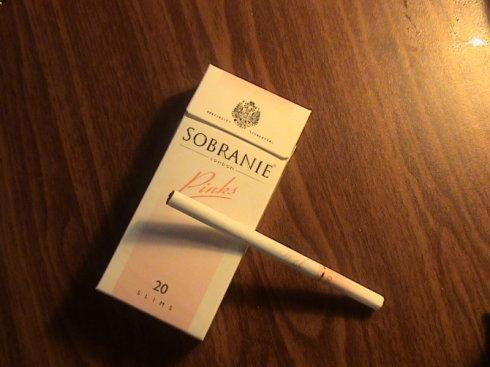smoke: (165, 191, 386, 311)
